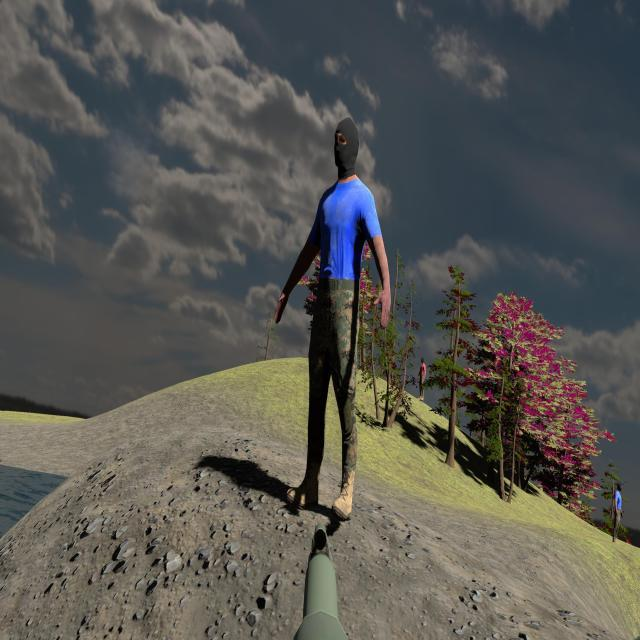Human: (273, 119, 392, 516), (614, 481, 624, 544)
